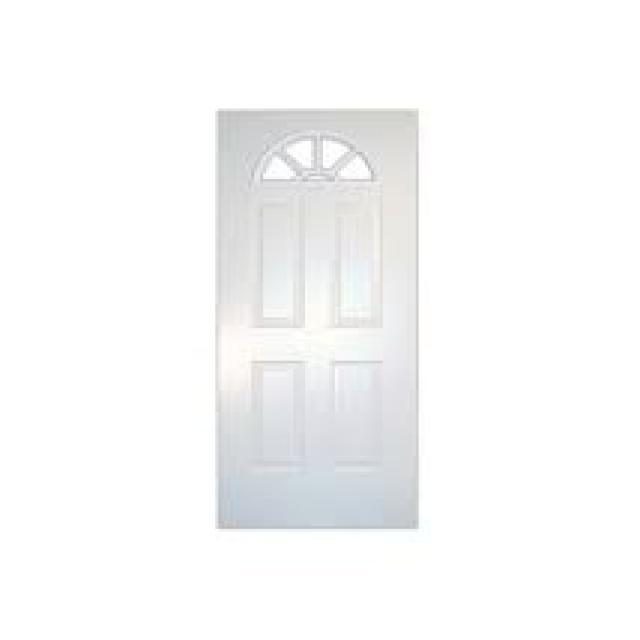door: (215, 108, 419, 529)
